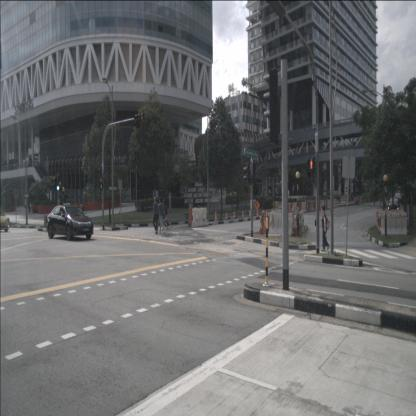human-pedestrian-adult: (321, 206, 330, 252), (157, 196, 166, 235), (152, 197, 160, 235), (162, 200, 168, 229), (80, 200, 84, 218), (28, 199, 32, 214)
movable_object-barrier: (381, 213, 409, 236), (268, 213, 293, 237), (192, 207, 208, 228), (294, 213, 302, 237), (298, 209, 306, 232), (259, 212, 267, 235), (188, 208, 193, 226), (292, 202, 298, 214), (301, 202, 307, 212), (310, 200, 315, 211), (327, 199, 332, 209), (297, 202, 302, 212), (340, 197, 347, 204), (320, 200, 324, 211), (306, 201, 310, 212), (333, 198, 337, 208), (324, 200, 328, 210)
movable_object-trafficcone: (214, 211, 218, 222), (232, 210, 236, 220), (256, 209, 259, 218), (225, 212, 228, 221), (242, 210, 244, 219), (249, 211, 251, 219)
vehicle-car: (47, 205, 94, 241), (0, 208, 10, 232), (388, 197, 400, 212), (394, 193, 404, 204)
